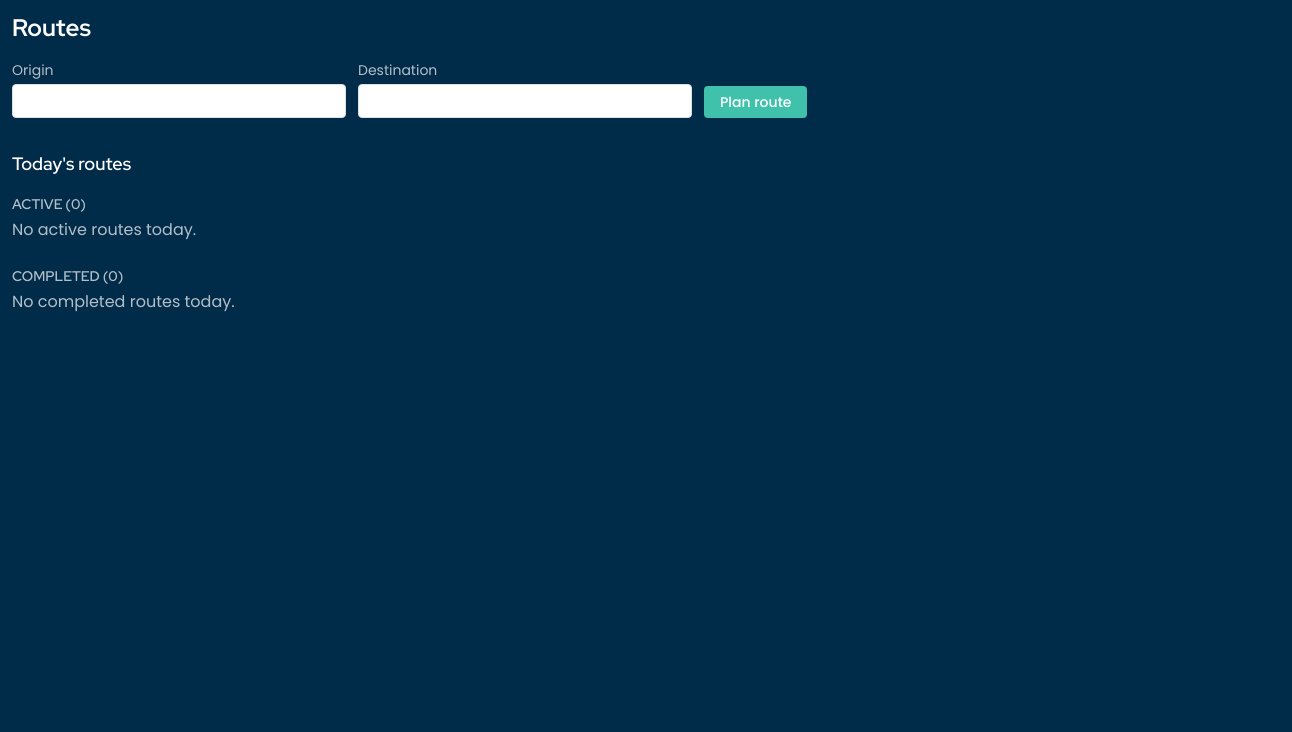
RoutesPage › shows distance, duration, and estimated arrival time after planning a route
Expected: the text "No active routes today." is shown, [12, 218, 196, 241]
In the field labelled "Origin": (179, 101) [12, 84, 346, 118], type "Sydney CBD"
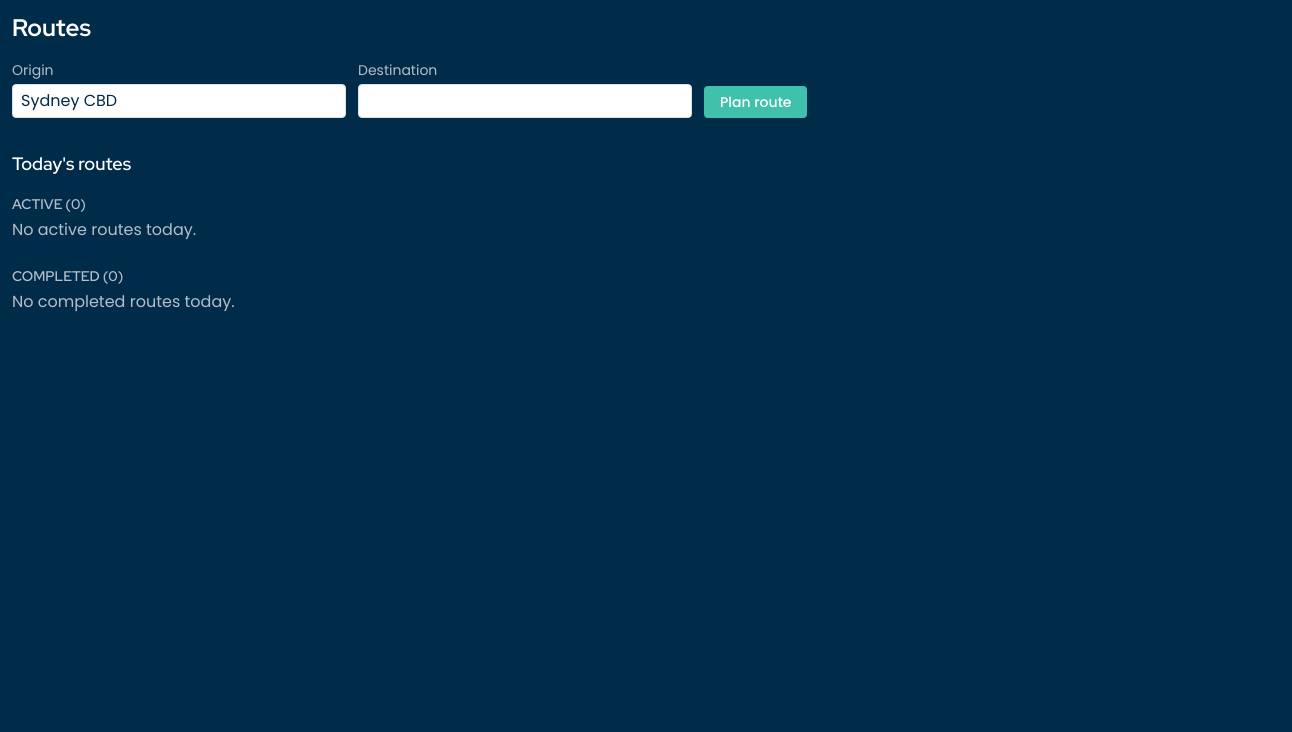
In the field labelled "Destination": (525, 101) [358, 84, 692, 118], type "Bondi Beach"
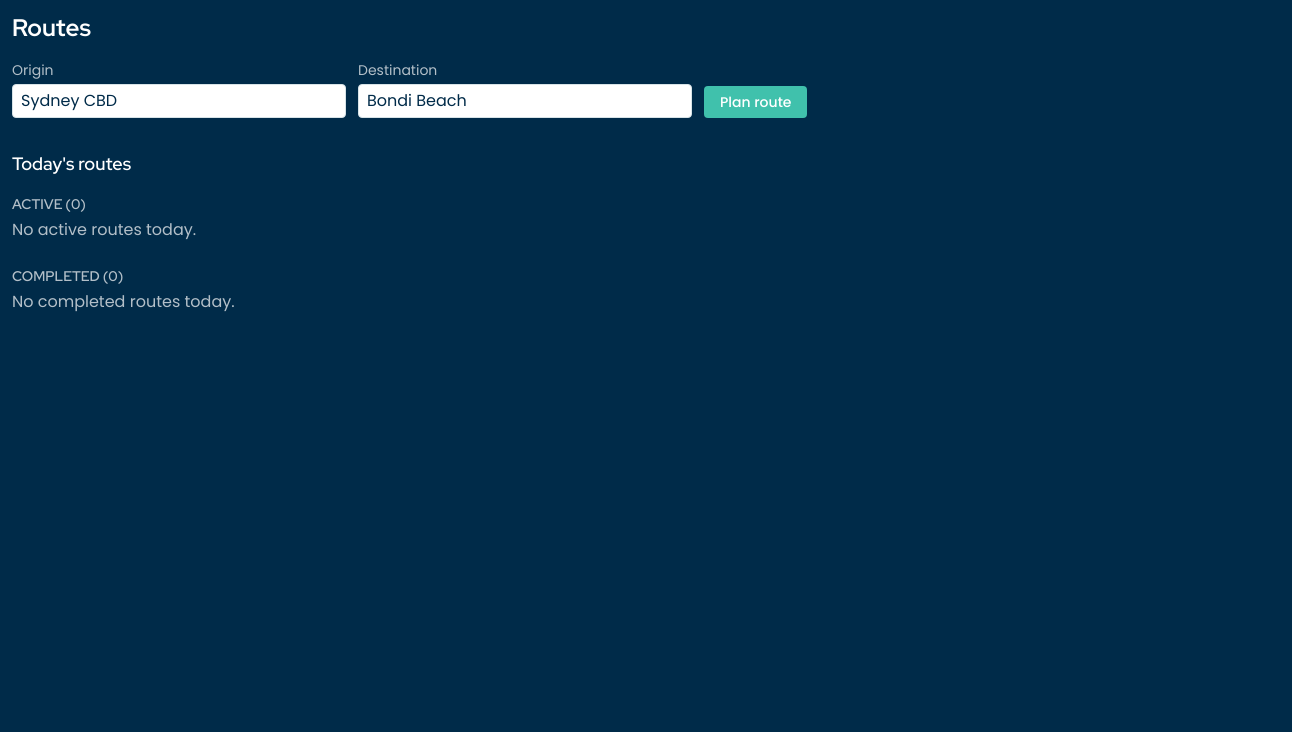
Click the button "Plan route": (756, 102) [704, 86, 808, 118]
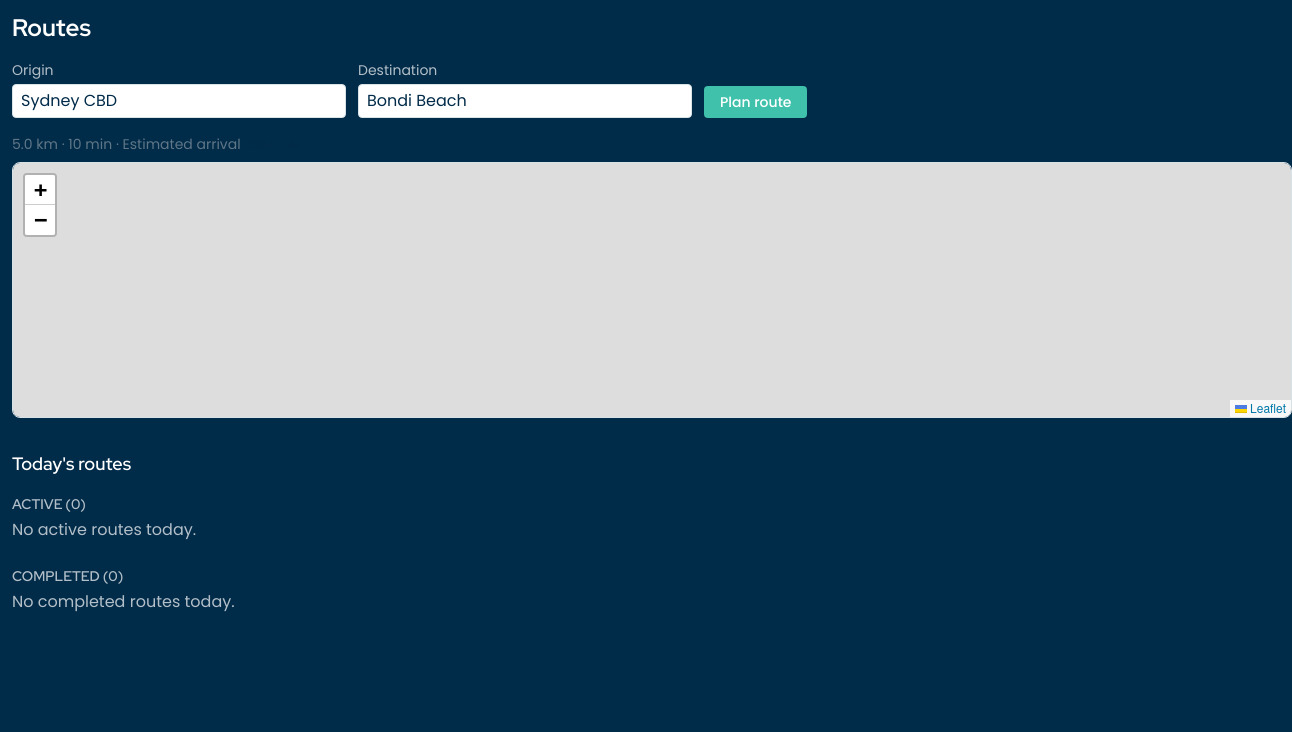
Now the element with test id "plan-result-stats" is shown, box [12, 134, 302, 154]
Now the element with test id "plan-result-stats" shows "5.0 km", box [12, 134, 112, 154]
Now the element with test id "plan-result-stats" shows "10 min", box [12, 134, 112, 154]
